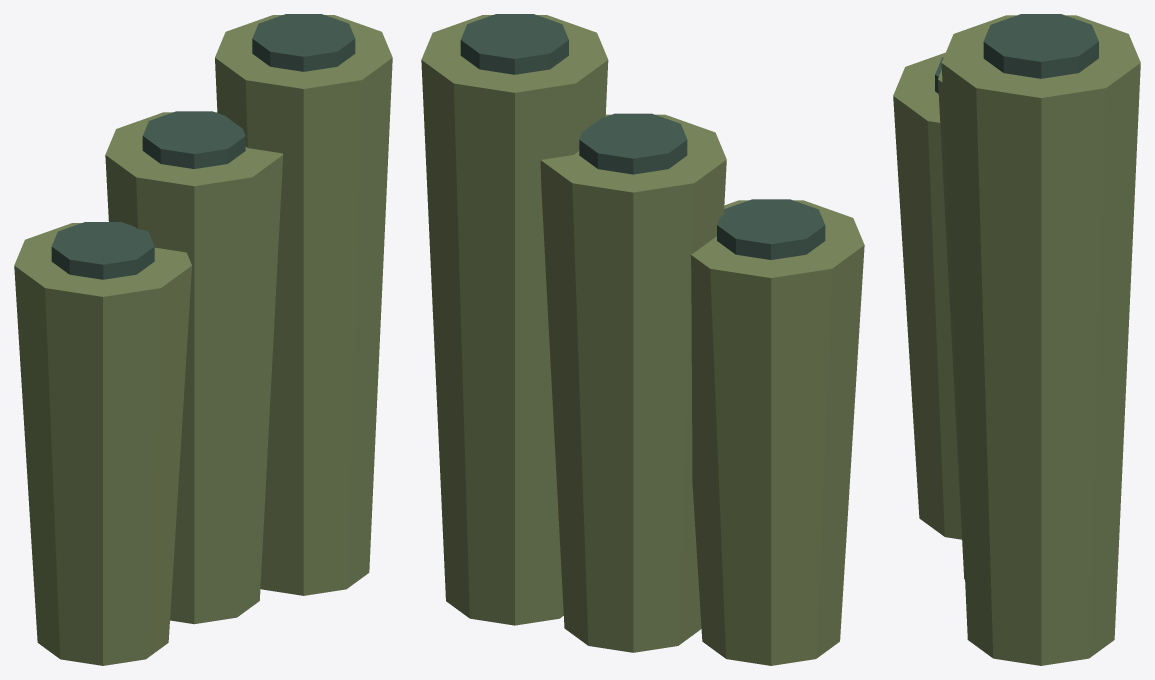
The model's file is map-boundaries-v5__tide_03.glb.
3 views of the same model, side by side, from view 1: azimuth 30°, elevation 25°; view 2: azimuth 150°, elevation 25°; view 3: azimuth 270°, elevation 25° (orthographic). The views are drawn at different scales.
Parts seen in each view (by area): view 1: tide_03; view 2: tide_03; view 3: tide_03.
Boxes of the visible parts, x1,y1,x2,y2 form: tide_03: [14, 14, 392, 665]; tide_03: [421, 14, 864, 665]; tide_03: [893, 14, 1140, 665].
Size of the model in its own units: 0.9085 by 1.24 by 0.4651.
